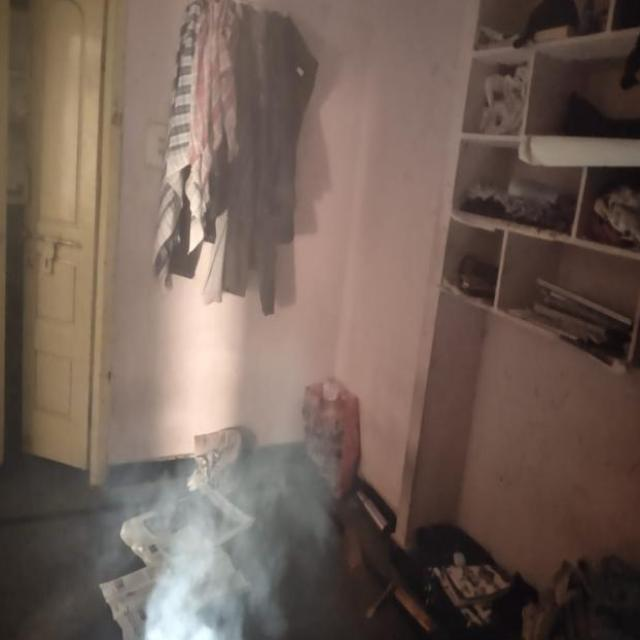fire: (146, 435, 327, 640)
